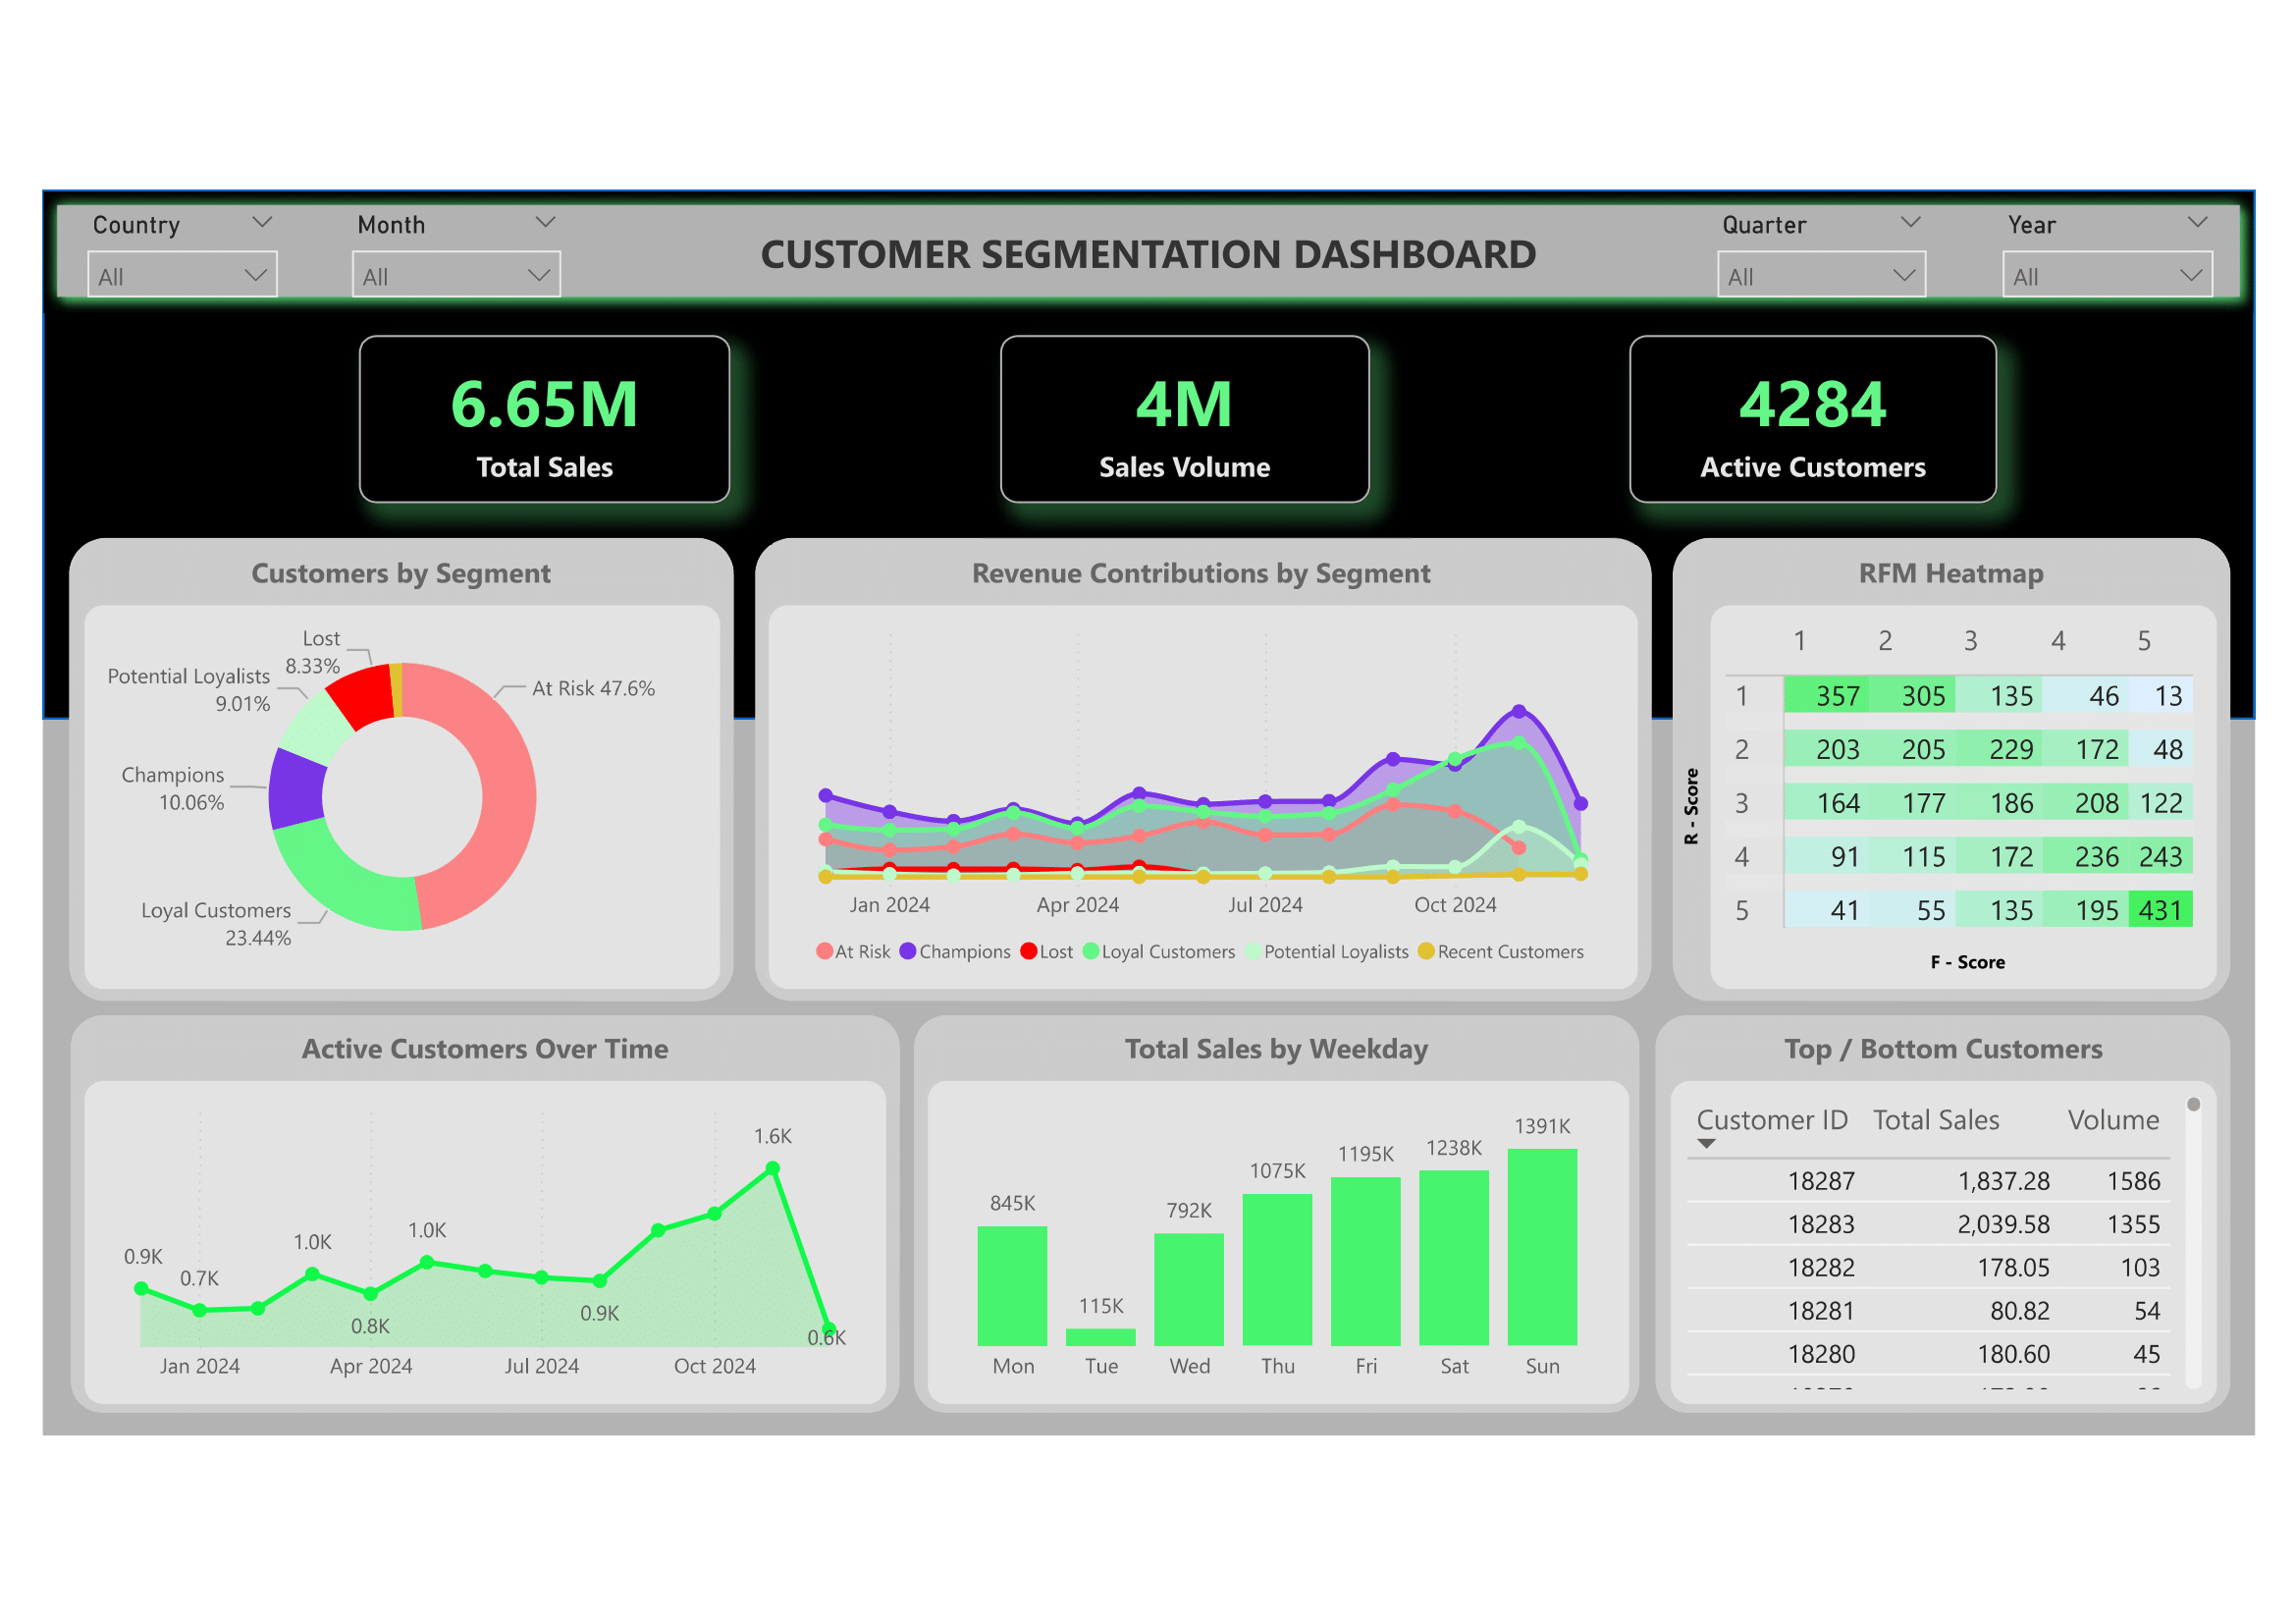

The page's visual inventory and layout, read from the dashboard file:
{"tool":"powerbi","page":{"name":"Dashboard","canvas":[1280,720],"ordinal":0},"visuals":[{"type":"shape","box":[0,0,1280,305.7],"z":0},{"type":"shape","box":[411.9,201.2,518.8,267.5],"z":1000},{"type":"card","fields":{"Values":["Measures_.Total Sales"]},"box":[182.5,83.8,215,97.5],"z":2000},{"type":"card","fields":{"Values":["Measures_.Sales Volume"]},"box":[553.8,83.8,213.8,97.5],"z":3000},{"type":"card","fields":{"Values":["Measures_.Active Customers"]},"box":[917.5,83.8,213.8,97.5],"z":4000},{"type":"shape","box":[15,201.2,385,267.5],"z":5000},{"type":"donutChart","fields":{"Category":["rfm_data.Segment"],"Y":["Measures_.Active Customers"]},"box":[22.5,238.8,370,223.8],"z":6000},{"type":"areaChart","fields":{"Series":["rfm_data.Segment"],"Y":["Measures_.Total Sales"],"Category":["date.InvoiceDate.Variation.Date Hierarchy.Year","date.InvoiceDate.Variation.Date Hierarchy.Month"]},"box":[418.6,238.6,505.7,224.3],"z":7000},{"type":"shape","box":[942.5,201.2,323.8,267.5],"z":8000},{"type":"pivotTable","fields":{"Rows":["rfm_data.R_Score"],"Columns":["rfm_data.F_Score"],"Values":["CountNonNull(rfm_data.M_Score)"]},"box":[964.3,238.6,294.3,224.3],"z":9000},{"type":"shape","box":[15.7,477.1,480,230],"z":10000},{"type":"areaChart","fields":{"Y":["Measures_.Active Customers"],"Category":["date.InvoiceDate.Variation.Date Hierarchy.Year","date.InvoiceDate.Variation.Date Hierarchy.Month"]},"box":[22.9,514.3,465.7,188.6],"z":11000},{"type":"shape","box":[504.3,477.1,420,230],"z":12000},{"type":"shape","box":[932.9,477.1,332.9,230],"z":13000},{"type":"columnChart","fields":{"Category":["date.DayOfWeek"],"Y":["Measures_.Total Sales"]},"box":[511.4,514.3,407.1,188.6],"z":14000},{"type":"tableEx","fields":{"Values":["rfm_data.CustomerID","Measures_.Total Sales","Measures_.Sales Volume"]},"box":[941.4,514.3,317.1,188.6],"z":15000},{"type":"shape","box":[15.7,201.4,382.9,37.1],"z":16000},{"type":"shape","box":[1023.8,427.5,180,35],"z":17000},{"type":"shape","box":[926.2,323.8,52.5,63.8],"z":18000},{"type":"shape","box":[15.7,477.1,480,37.1],"z":19000},{"type":"shape","box":[411.4,201.4,518.6,37.1],"z":20000},{"type":"shape","box":[942.9,201.4,322.9,37.1],"z":21000},{"type":"shape","box":[932.9,477.1,334.3,37.1],"z":22000},{"type":"shape","box":[504.3,477.1,420,37.1],"z":23000},{"type":"shape","box":[0,0,1280,71.4],"z":24000},{"type":"slicer","fields":{"Values":["df_data.Country"]},"box":[15.7,7.1,130,57.1],"z":25000},{"type":"slicer","fields":{"Values":["date.month"]},"box":[168.6,7.1,141.4,57.1],"z":26000},{"type":"slicer","fields":{"Values":["date.InvoiceDate.Variation.Date Hierarchy.Year"]},"box":[1124.3,7.1,141.4,57.1],"z":27000},{"type":"slicer","fields":{"Values":["date.InvoiceDate.Variation.Date Hierarchy.Quarter"]},"box":[958.6,7.1,141.4,57.1],"z":28000}]}

Visuals, with their boxes in screenshot pixels (x1, y1, x2, y2):
shape: l=12, t=180, r=2276, b=721
shape: l=740, t=535, r=1658, b=1008
card - Measures_.Total Sales: l=335, t=328, r=716, b=500
card - Measures_.Sales Volume: l=991, t=328, r=1369, b=500
card - Measures_.Active Customers: l=1635, t=328, r=2013, b=500
shape: l=38, t=535, r=720, b=1008
donutChart - rfm_data.Segment x Measures_.Active Customers: l=52, t=602, r=706, b=998
areaChart - rfm_data.Segment x Measures_.Total Sales: l=753, t=602, r=1647, b=999
shape: l=1680, t=535, r=2252, b=1008
pivotTable - rfm_data.R_Score x rfm_data.F_Score: l=1718, t=602, r=2238, b=999
shape: l=39, t=1024, r=888, b=1431
areaChart - Measures_.Active Customers x date.InvoiceDate.Variation.Date Hierarchy.Year: l=52, t=1090, r=877, b=1423
shape: l=904, t=1024, r=1647, b=1431
shape: l=1662, t=1024, r=2251, b=1431
columnChart - date.DayOfWeek x Measures_.Total Sales: l=917, t=1090, r=1636, b=1423
tableEx - rfm_data.CustomerID x Measures_.Total Sales: l=1678, t=1090, r=2238, b=1423
shape: l=39, t=536, r=717, b=602
shape: l=1823, t=936, r=2142, b=998
shape: l=1650, t=752, r=1743, b=865
shape: l=39, t=1024, r=888, b=1089
shape: l=740, t=536, r=1657, b=602
shape: l=1680, t=536, r=2251, b=602
shape: l=1662, t=1024, r=2254, b=1089
shape: l=904, t=1024, r=1647, b=1089
shape: l=12, t=180, r=2276, b=305
slicer - df_data.Country: l=39, t=192, r=270, b=293
slicer - date.month: l=310, t=192, r=561, b=293
slicer - date.InvoiceDate.Variation.Date Hierarchy.Year: l=2001, t=192, r=2251, b=293
slicer - date.InvoiceDate.Variation.Date Hierarchy.Quarter: l=1708, t=192, r=1957, b=293
